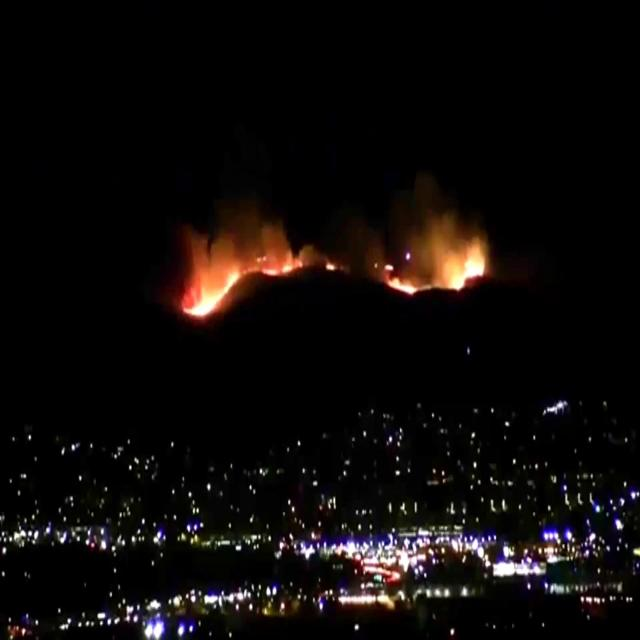Fire: (181, 227, 302, 317), (382, 220, 486, 294), (324, 257, 336, 273)
